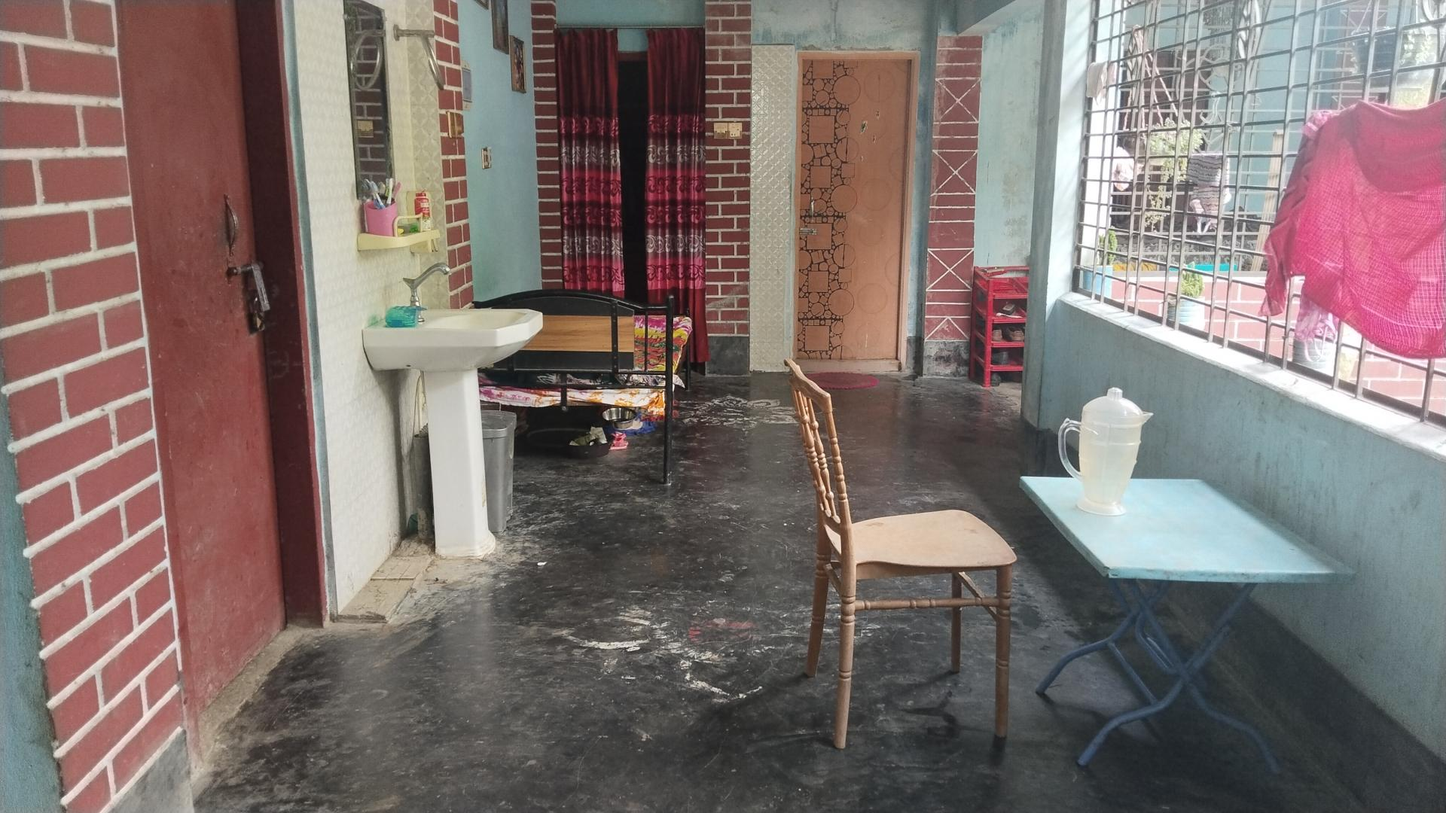Chair: (786, 361, 1021, 757)
Door: (796, 54, 911, 361)
Jug: (1059, 388, 1153, 503)
Table: (1022, 476, 1360, 774)
